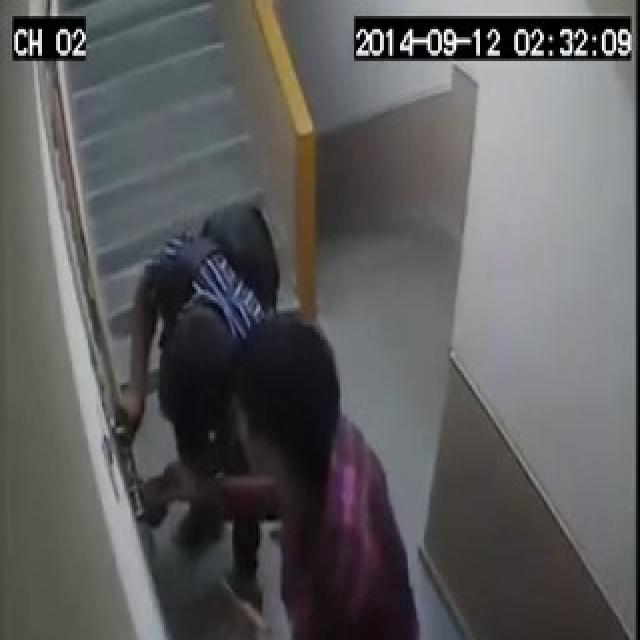thief: (119, 222, 426, 640)
